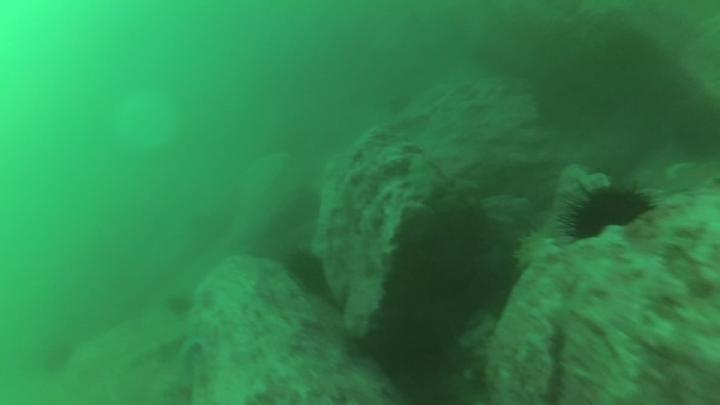echinus: (569, 189, 650, 236), (286, 255, 324, 288)
